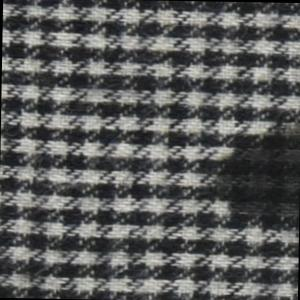Stain: (208, 120, 300, 235)
